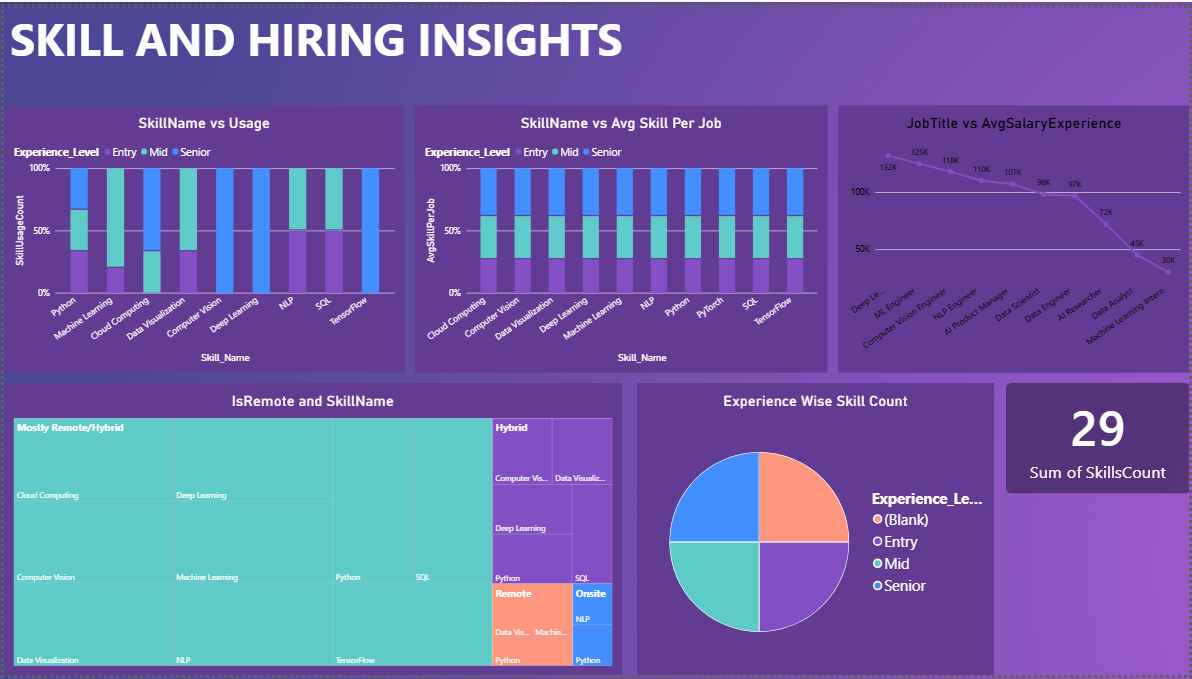

The dashboard page shown, as its layout file describes it:
{"tool":"powerbi","page":{"name":"Skill and Hiring Insights","canvas":[1920,1080],"ordinal":3},"visuals":[{"type":"textbox","box":[9.7,0,1015.3,109.3],"z":0},{"type":"hundredPercentStackedColumnChart","title":"SkillName vs Usage","fields":{"Category":["Dim_Skills.Skill_Name"],"Series":["Fact_Jobs.Experience_Level"],"Y":["Dim_Skills.SkillUsageCount"]},"box":[0,157.9,648.5,432.3],"z":1},{"type":"treemap","title":"IsRemote and SkillName","fields":{"Details":["Dim_Skills.Skill_Name"],"Group":["Fact_Jobs.IsRemote"],"Values":["Sum(Fact_Jobs.Salary_USD)"]},"box":[0,607.2,1000.7,473.6],"z":2},{"type":"cardVisual","title":"Skill Count","fields":{"Data":["Sum(Fact_Jobs.SkillsCount)"]},"box":[1622.5,607.2,298.7,179.7],"z":3},{"type":"lineChart","title":"JobTitle vs AvgSalaryExperience","fields":{"Category":["Fact_Jobs.Job_Title"],"Y":["Fact_Jobs.AvgSalaryByExperience"]},"box":[1350.4,157.9,570.8,432.3],"z":4},{"type":"hundredPercentStackedColumnChart","title":"SkillName vs Avg Skill Per Job","fields":{"Category":["Dim_Skills.Skill_Name"],"Series":["Fact_Jobs.Experience_Level"],"Y":["Fact_Job_Skills.AvgSkillPerJob"]},"box":[665.5,157.9,667.9,432.3],"z":5},{"type":"pieChart","title":"Experience Wise Skill Count","fields":{"Category":["Fact_Jobs.Experience_Level"],"Y":["CountNonNull(Dim_Skills.Skill_Name)"]},"box":[1025,607.2,578.1,473.6],"z":6}]}

Visuals, with their boxes in screenshot pixels (x1, y1, x2, y2), scaled from the page's 1920x1080 canvas onto the 1192x679 screenshot:
textbox: region(6, 0, 636, 69)
"SkillName vs Usage" hundredPercentStackedColumnChart: region(0, 99, 403, 371)
"IsRemote and SkillName" treemap: region(0, 382, 621, 678)
"Skill Count" cardVisual: region(1007, 382, 1191, 495)
"JobTitle vs AvgSalaryExperience" lineChart: region(838, 99, 1191, 371)
"SkillName vs Avg Skill Per Job" hundredPercentStackedColumnChart: region(413, 99, 828, 371)
"Experience Wise Skill Count" pieChart: region(636, 382, 995, 678)
